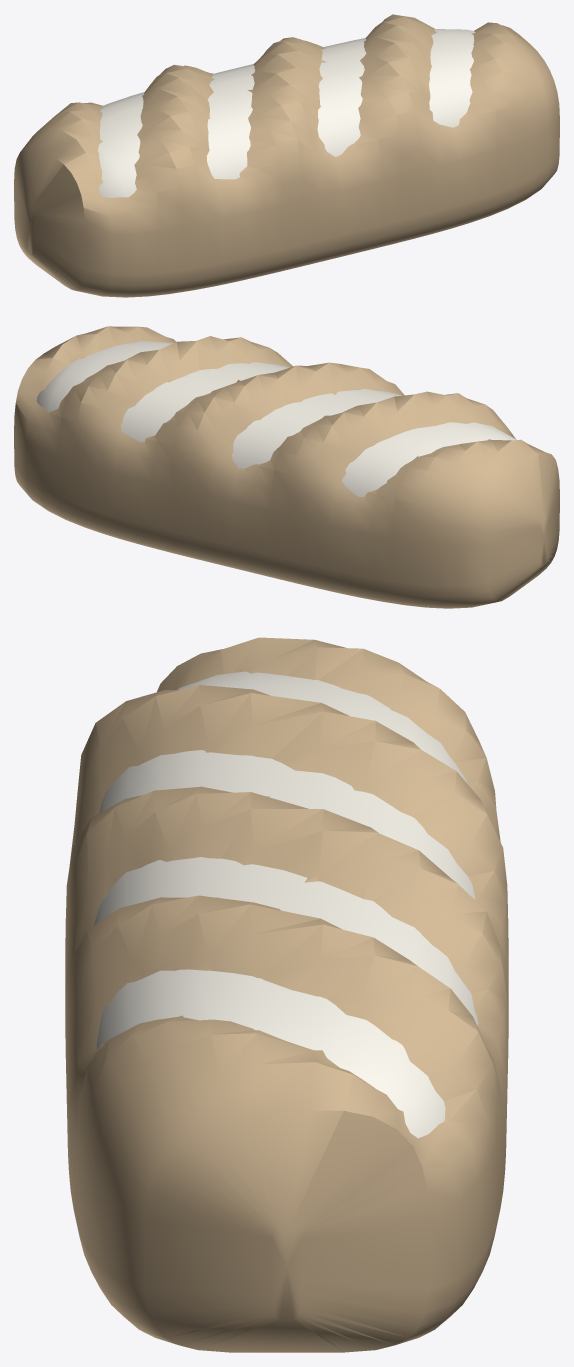
Rendered from fresh-produce-and-groceries-bloomer-loaf-1bfa12e1__24413.glb.
The picture shows the model from 3 angles, top to bottom: view 1: azimuth 30°, elevation 25°; view 2: azimuth 150°, elevation 25°; view 3: azimuth 270°, elevation 25°; orthographic projection. The views are drawn at different scales.
Visible parts, largest first — view 1: bloomer-loaf; view 2: bloomer-loaf; view 3: bloomer-loaf.
Boxes of the visible parts, <box> form: bloomer-loaf: <box>14,14,559,297</box>; bloomer-loaf: <box>14,326,559,608</box>; bloomer-loaf: <box>65,637,508,1352</box>.
Bounding box in the file's own units: 0.3 × 0.0962 × 0.112.
